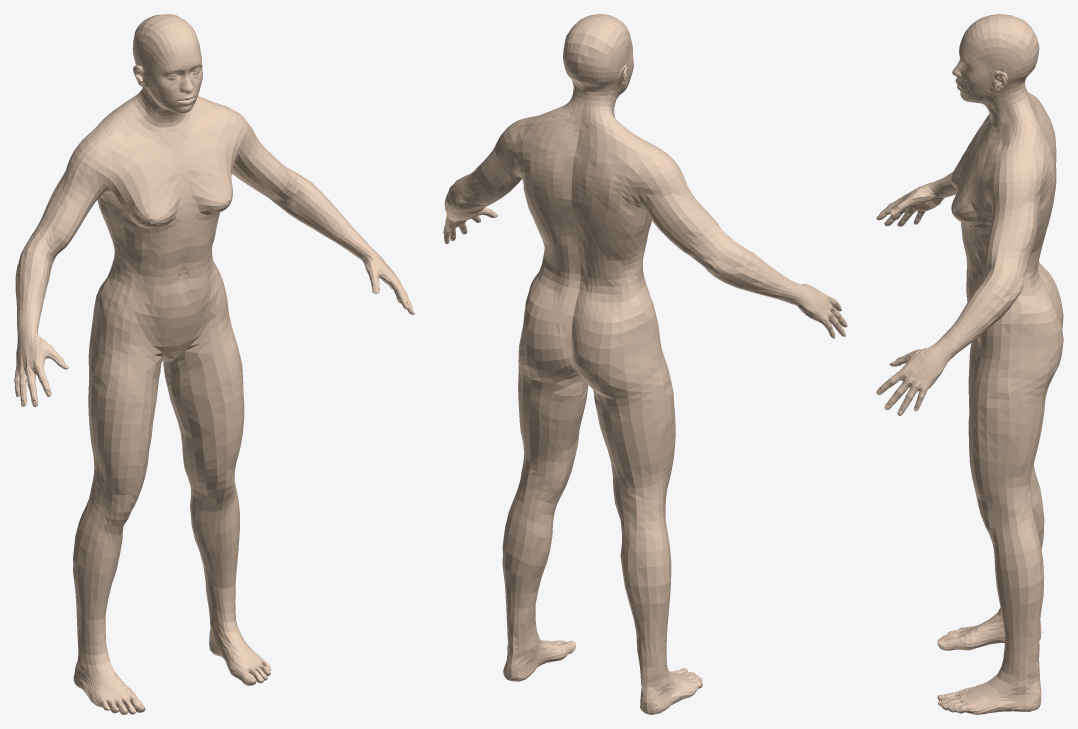
The model's file is female-mature-heavy-high.glb.
The picture shows the model from 3 angles, left to right: view 1: azimuth 30°, elevation 25°; view 2: azimuth 150°, elevation 25°; view 3: azimuth 270°, elevation 25°; orthographic projection.
Visible parts, largest first — view 1: world; view 2: world; view 3: world.
Part boxes in pixels (box(x1,y1,x2,y2)): world: box(14, 14, 414, 714); world: box(443, 14, 847, 714); world: box(876, 14, 1063, 714).
Bounding box in the file's own units: 1.14 × 1.84 × 0.4727.
